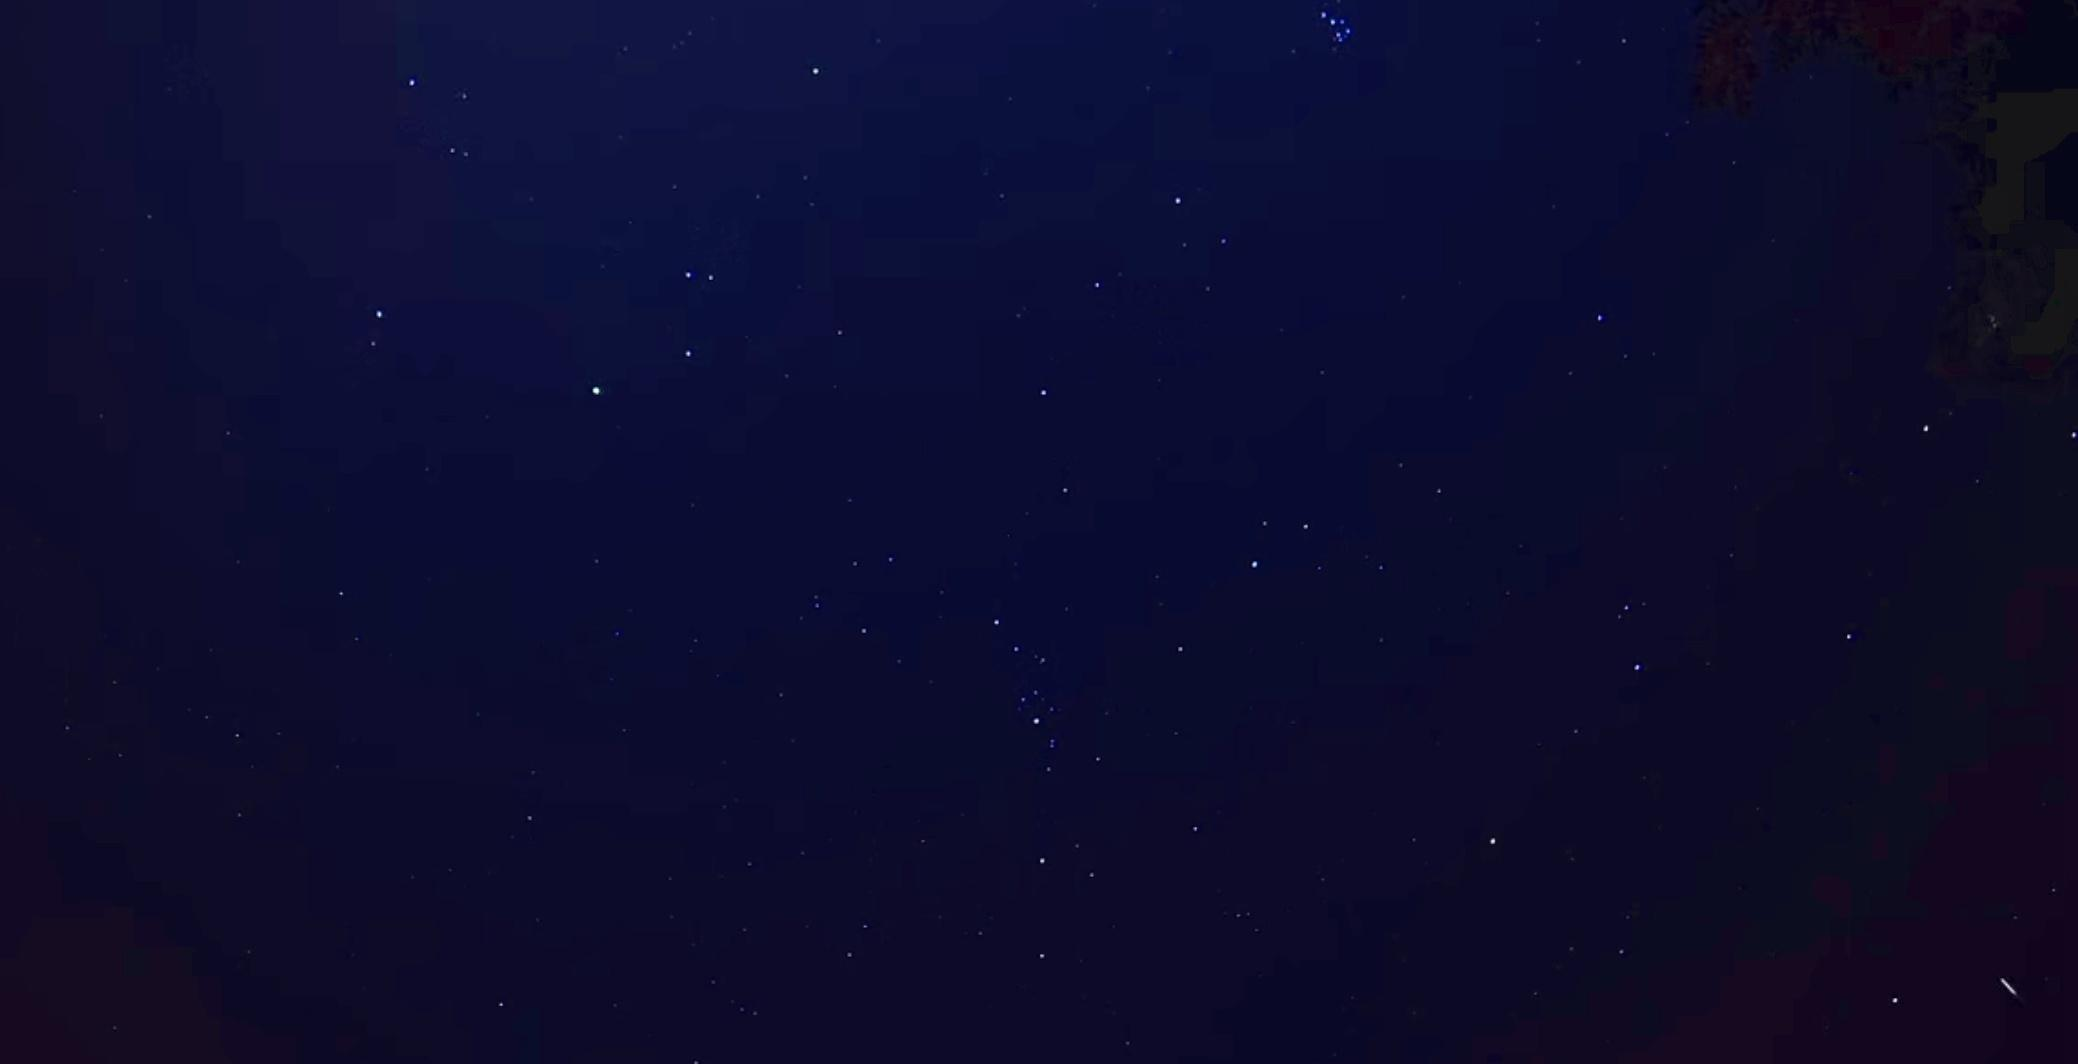meteorite: (1955, 968, 2064, 1010)
